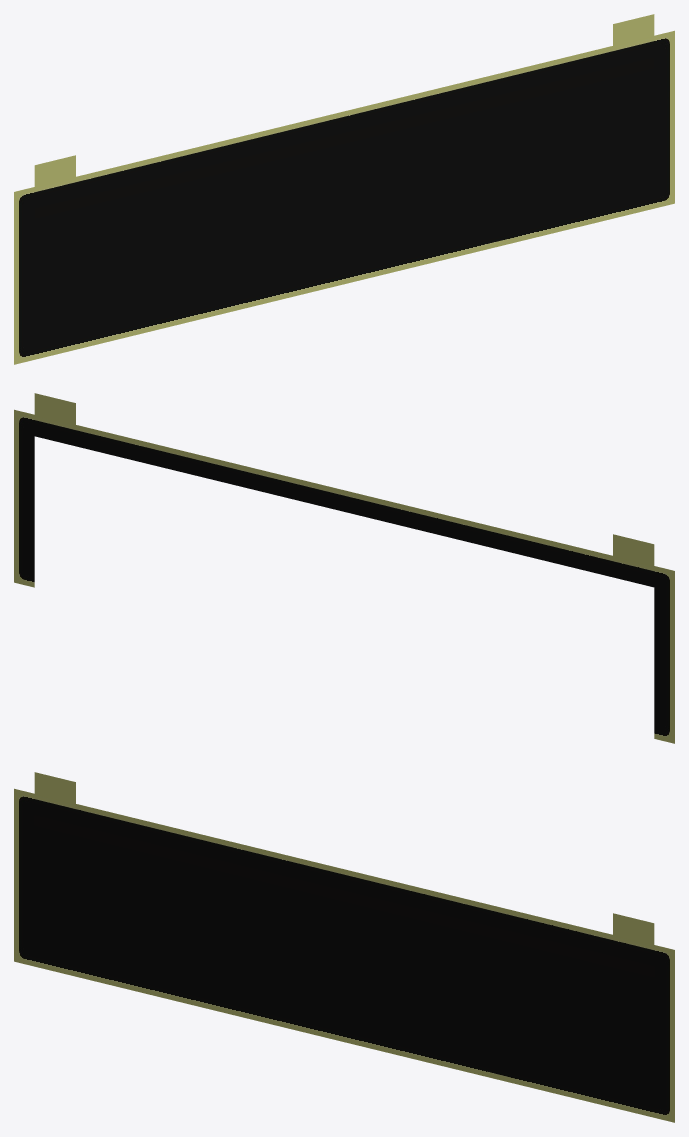
File: pir_m_gui_frm_questChat.fbx
3 renders of one model, top to bottom at view 1: azimuth 30°, elevation 25°; view 2: azimuth 150°, elevation 25°; view 3: azimuth 330°, elevation 25°, orthographic.
Visible parts, largest first — view 1: bottom_center, pointer_none, pointer_left, pointer_right, side_right, side_left; view 2: pointer_none, pointer_left, pointer_right, side_right, side_left; view 3: bottom_center, pointer_none, pointer_left, side_left, side_right, pointer_right.
Part boxes in pixels (bbox=[...]): bottom_center: bbox=[34, 57, 654, 359]; pointer_none: bbox=[34, 36, 654, 208]; pointer_left: bbox=[34, 36, 653, 207]; pointer_right: bbox=[35, 14, 654, 207]; side_right: bbox=[654, 30, 674, 208]; side_left: bbox=[14, 187, 34, 364]; pointer_none: bbox=[34, 415, 654, 586]; pointer_left: bbox=[34, 415, 654, 587]; pointer_right: bbox=[34, 393, 653, 586]; side_right: bbox=[14, 409, 34, 587]; side_left: bbox=[654, 566, 674, 743]; bottom_center: bbox=[34, 815, 654, 1117]; pointer_none: bbox=[34, 794, 654, 966]; pointer_left: bbox=[34, 772, 654, 965]; side_left: bbox=[14, 788, 34, 966]; side_right: bbox=[654, 945, 674, 1122]; pointer_right: bbox=[35, 797, 654, 965].
Bounding box in the file's own units: 6.56 × 1.85 × 3.03e-07.
Materials: 3 (3 with a texture image).
